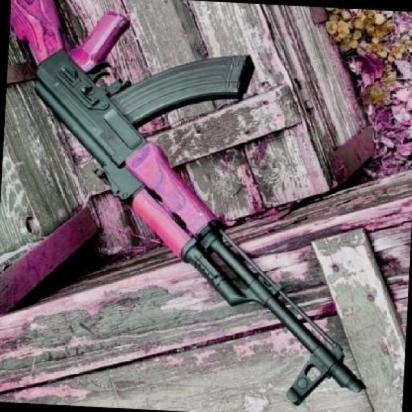Gun: (0, 0, 400, 399)
